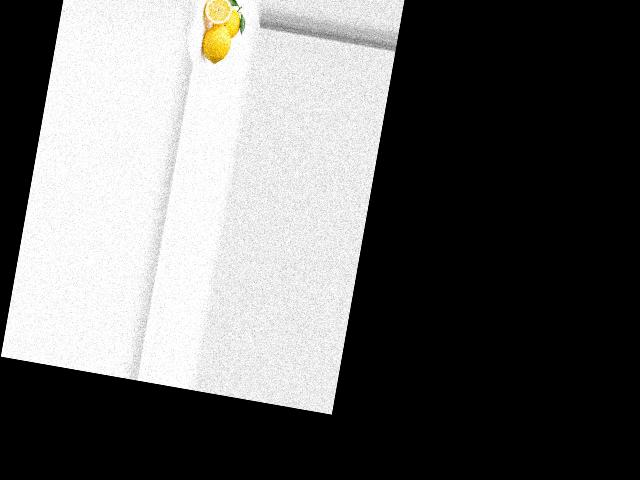lemon: (212, 3, 244, 41)
